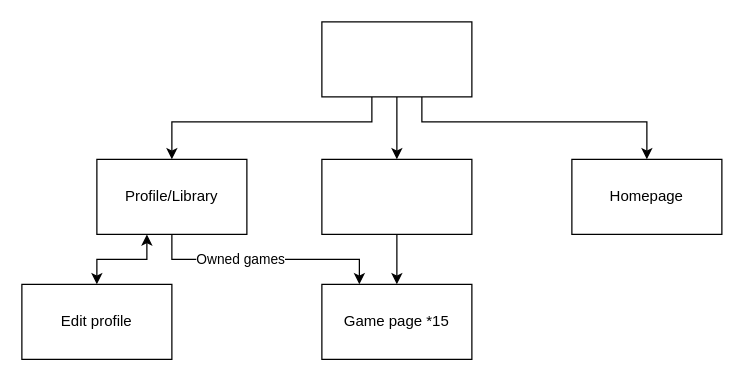
This 744x381 diagram has some shape labels left out. Here are the shapes that lost their labels. From the top down, the centre of each, then its label:
At point (396, 59): "Global navbar (Shown on all pages)".
At point (396, 196): "Storefront".
